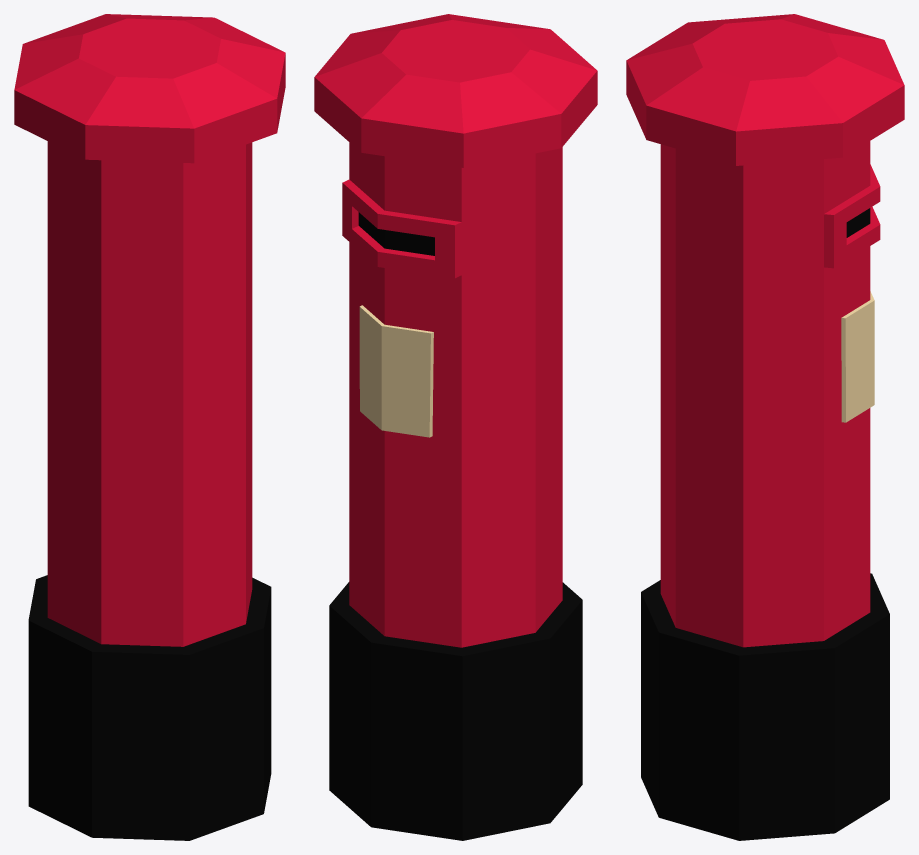
The model's file is Postbox.fbx.
3 renders of one model, left to right at view 1: azimuth 30°, elevation 25°; view 2: azimuth 150°, elevation 25°; view 3: azimuth 270°, elevation 25°, orthographic.
Visible parts, largest first — view 1: Postbox; view 2: Postbox; view 3: Postbox.
Part boxes in pixels (bbox=[...]): Postbox: bbox=[14, 14, 285, 840]; Postbox: bbox=[314, 14, 597, 840]; Postbox: bbox=[626, 14, 904, 840].
Size of the model in its own units: 84.47 by 84.47 by 247.
